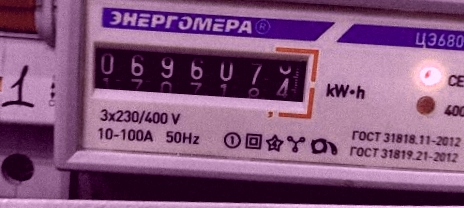0: (97, 50, 116, 75), (217, 56, 234, 82)
4: (273, 75, 290, 100)
6: (127, 52, 146, 77), (187, 55, 206, 80)
7: (247, 60, 263, 87)
9: (157, 54, 175, 79)
screen: (76, 27, 323, 117)
